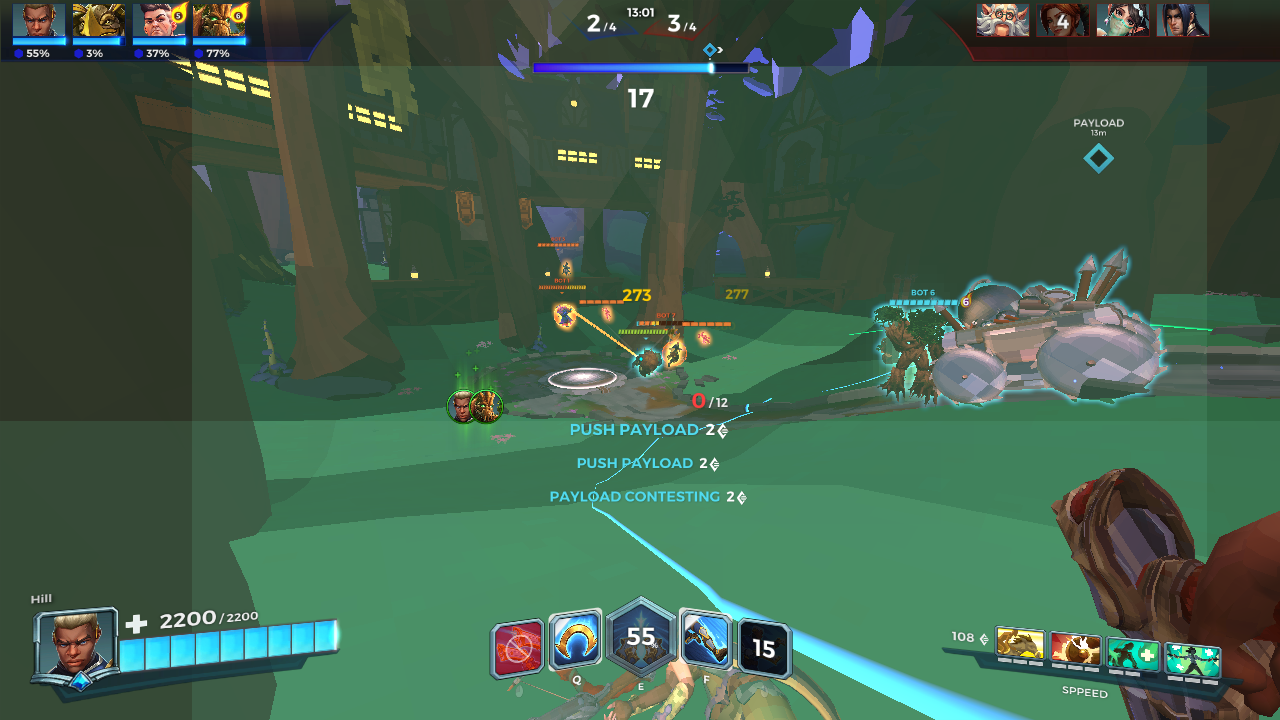model: (553, 298, 575, 337), (666, 338, 685, 369), (559, 255, 572, 279)
